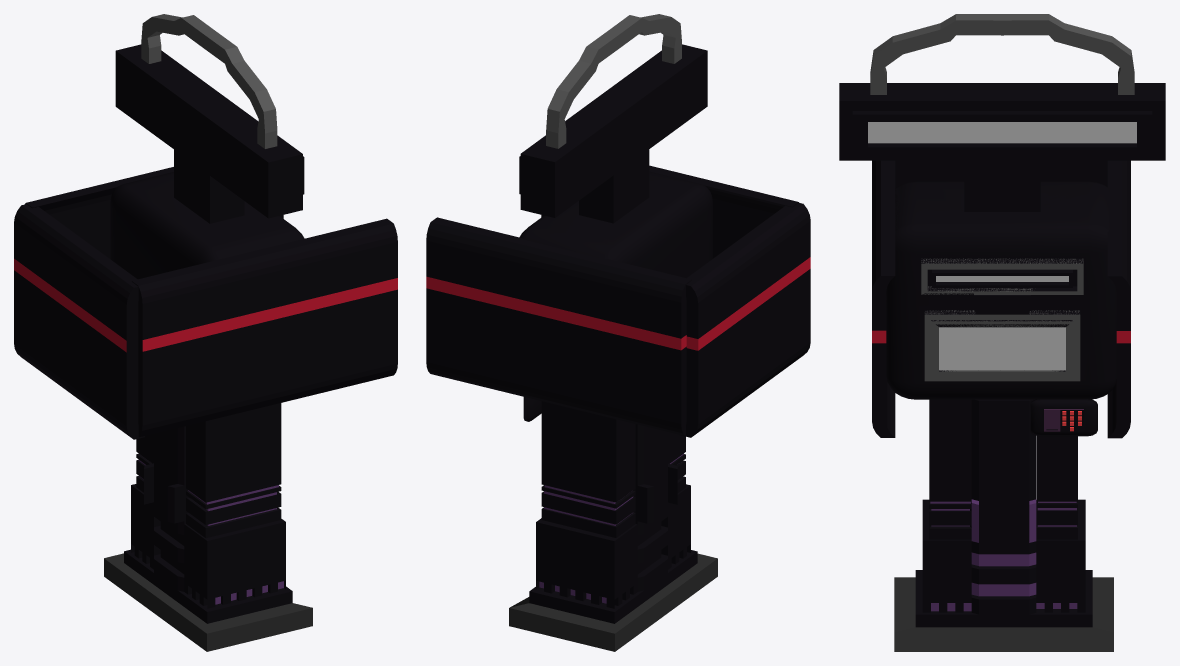
The model's file is Video Phone Booth.fbx.
3 views of the same model, side by side, from view 1: azimuth 30°, elevation 25°; view 2: azimuth 150°, elevation 25°; view 3: azimuth 270°, elevation 25° (orthographic). The views are drawn at different scales.
Parts seen in each view (by area): view 1: Barrier (×2), Video Phone Booth (×3), Screen (×2); view 2: Barrier (×2), Video Phone Booth (×3), Screen (×2); view 3: Screen (×3), Video Phone Booth (×3), Barrier, Keypad.
Part boxes in pixels (x1=…): Barrier (×2): x1=14, y1=167, x2=397, y2=439; Video Phone Booth (×3): x1=104, y1=403, x2=312, y2=651; Screen (×2): x1=110, y1=14, x2=304, y2=279; Barrier (×2): x1=426, y1=165, x2=810, y2=437; Video Phone Booth (×3): x1=509, y1=401, x2=717, y2=651; Screen (×2): x1=519, y1=14, x2=718, y2=278; Screen (×3): x1=839, y1=14, x2=1165, y2=399; Video Phone Booth (×3): x1=894, y1=399, x2=1113, y2=651; Barrier: x1=872, y1=160, x2=1130, y2=438; Keypad: x1=1030, y1=399, x2=1097, y2=436.
Bounding box in the file's own units: 1161 × 2360 × 1149.
